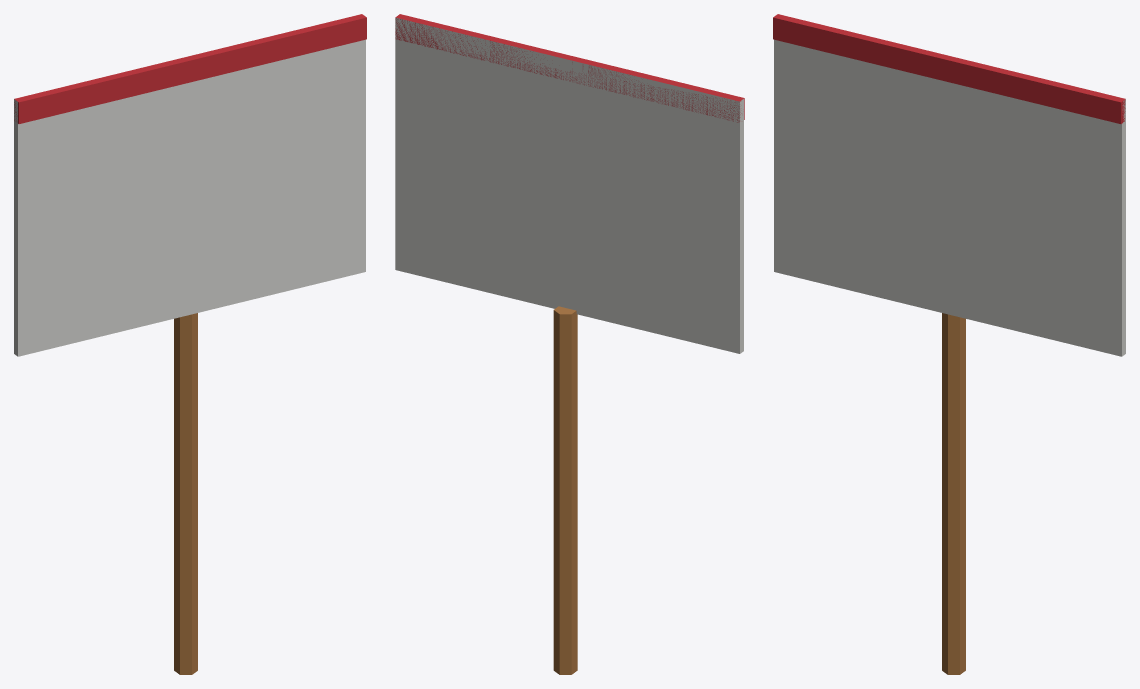
File: cue_card.glb
3 renders of one model, left to right at view 1: azimuth 30°, elevation 25°; view 2: azimuth 150°, elevation 25°; view 3: azimuth 330°, elevation 25°, orthographic.
Visible parts, largest first — view 1: card_tv_white, card_tv_red, stick_card_stick; view 2: card_tv_white, stick_card_stick, card_tv_red; view 3: card_tv_white, card_tv_red, stick_card_stick.
Part boxes in pixels (x1,y1,x2,y2): card_tv_white: (14,39,365,356); card_tv_red: (14,14,366,123); stick_card_stick: (174,313,197,674); card_tv_white: (395,17,743,353); stick_card_stick: (553,306,577,674); card_tv_red: (395,14,744,122); card_tv_white: (774,39,1125,356); card_tv_red: (773,14,1125,123); stick_card_stick: (942,313,965,674).
Size of the model in its own units: 0.5 by 0.845 by 0.032.
